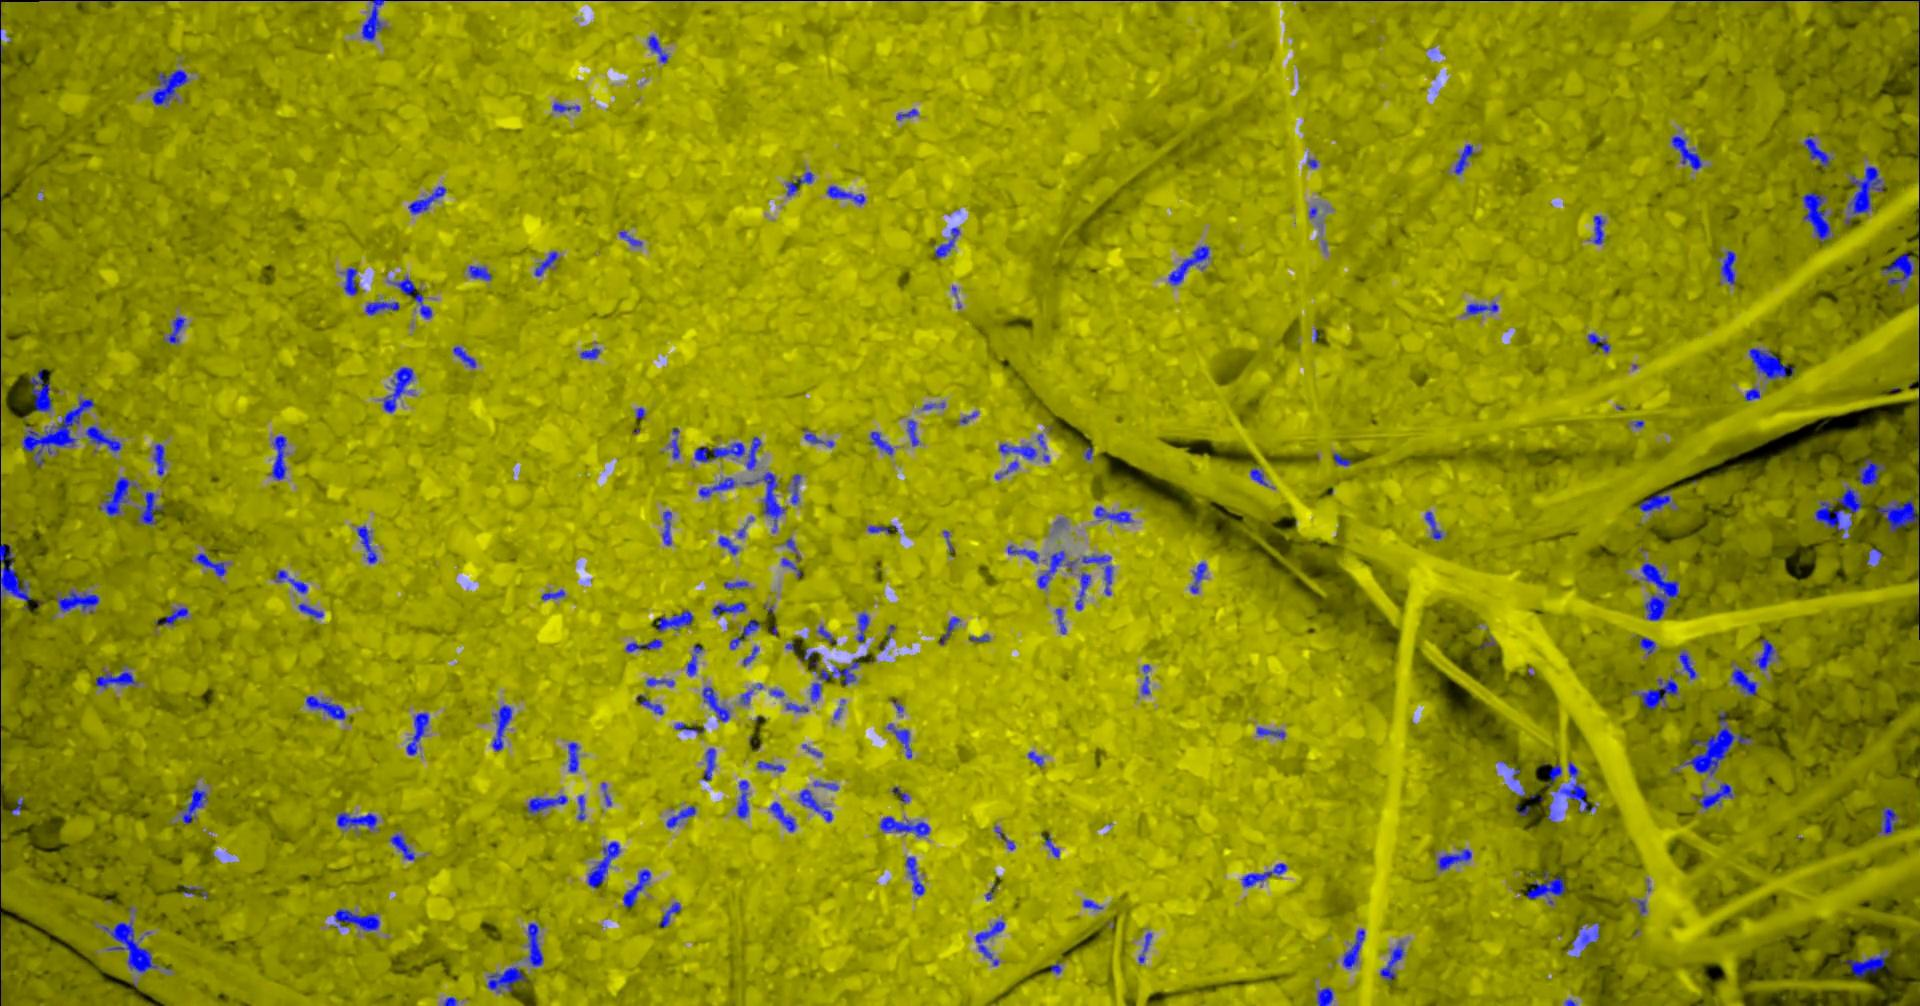ant: (102, 921, 156, 972), (0, 542, 30, 627), (743, 471, 785, 532), (810, 655, 863, 701), (1641, 561, 1677, 620), (695, 436, 759, 469), (1815, 486, 1862, 530), (1848, 166, 1884, 217), (1556, 762, 1592, 812), (1168, 245, 1209, 285), (392, 276, 430, 318), (1876, 495, 1919, 532), (1802, 191, 1832, 243), (98, 476, 136, 517), (1632, 676, 1677, 709), (587, 841, 620, 887), (1749, 347, 1793, 379), (382, 367, 413, 412), (975, 920, 1004, 965), (151, 69, 188, 104), (1526, 870, 1564, 904), (1081, 554, 1112, 594), (1881, 251, 1919, 285), (1845, 950, 1890, 977), (797, 788, 832, 821), (1241, 862, 1286, 887), (1036, 550, 1064, 588), (622, 869, 650, 907), (1671, 135, 1702, 169), (333, 908, 378, 931), (879, 815, 930, 836), (408, 185, 444, 213), (1694, 782, 1732, 809), (486, 967, 526, 992), (305, 695, 345, 719), (1379, 941, 1403, 982), (182, 785, 207, 823), (29, 367, 51, 412), (56, 589, 98, 612), (361, 0, 385, 39), (702, 686, 729, 721), (729, 619, 759, 649), (406, 713, 428, 754), (1803, 136, 1832, 166), (85, 426, 119, 451), (491, 705, 510, 751), (1342, 929, 1364, 968), (137, 492, 163, 525), (356, 525, 377, 563), (904, 856, 924, 895), (526, 794, 568, 813), (274, 569, 307, 593), (657, 610, 693, 631), (888, 723, 910, 757), (1857, 459, 1884, 486), (94, 671, 136, 688), (770, 801, 795, 831), (935, 227, 959, 258), (527, 922, 543, 967), (825, 185, 863, 205), (698, 478, 737, 497), (337, 812, 377, 829), (1437, 848, 1470, 870), (1731, 667, 1756, 695), (194, 553, 225, 575), (1638, 489, 1670, 511), (1453, 144, 1474, 174), (1093, 506, 1133, 522), (389, 833, 414, 859), (786, 171, 813, 196), (665, 805, 695, 827), (270, 434, 284, 479), (1755, 638, 1774, 669), (154, 607, 187, 625), (803, 428, 833, 447), (998, 443, 1036, 459), (1074, 572, 1090, 610), (1577, 921, 1599, 948), (648, 36, 668, 64), (938, 616, 959, 644), (1877, 807, 1897, 835), (1189, 561, 1206, 593), (535, 251, 557, 276), (636, 694, 663, 714), (166, 316, 185, 344), (1423, 511, 1443, 539), (1719, 250, 1735, 285), (870, 431, 893, 453), (1677, 650, 1695, 680), (660, 902, 681, 927), (1007, 545, 1037, 561), (340, 267, 358, 295), (452, 345, 475, 367), (686, 645, 702, 674), (711, 601, 745, 615), (625, 639, 662, 652), (994, 826, 1015, 848), (994, 460, 1018, 479), (877, 624, 895, 649), (701, 748, 715, 780), (364, 301, 399, 314), (737, 780, 748, 817), (781, 558, 801, 578), (1587, 333, 1609, 352), (152, 443, 165, 475), (1590, 215, 1604, 243), (856, 612, 869, 641), (1138, 932, 1150, 962), (1465, 302, 1497, 314), (717, 536, 738, 554), (297, 603, 323, 617), (568, 742, 579, 772), (1044, 835, 1059, 857), (817, 625, 836, 643), (674, 721, 703, 733), (669, 427, 679, 459), (618, 231, 641, 245), (469, 265, 491, 279), (785, 539, 799, 561), (1256, 727, 1284, 738), (1547, 763, 1561, 786), (1250, 467, 1267, 485), (742, 647, 758, 666), (790, 473, 800, 503), (662, 511, 670, 545), (757, 760, 783, 771), (1638, 636, 1655, 654), (1316, 987, 1332, 1005), (907, 419, 918, 445), (552, 102, 579, 112), (895, 108, 918, 119), (579, 347, 599, 359), (1055, 608, 1065, 634), (813, 780, 838, 790), (182, 885, 207, 895), (891, 786, 908, 801), (645, 677, 673, 686), (540, 589, 564, 600), (10, 796, 23, 815), (1027, 751, 1043, 766), (1142, 664, 1149, 694), (1332, 453, 1351, 465), (723, 580, 747, 589), (1743, 386, 1759, 400), (785, 702, 808, 711), (577, 794, 584, 821), (739, 688, 752, 704), (867, 525, 889, 533), (1082, 899, 1102, 908), (443, 996, 457, 1005), (1823, 0, 1879, 1), (1917, 44, 1919, 98)
